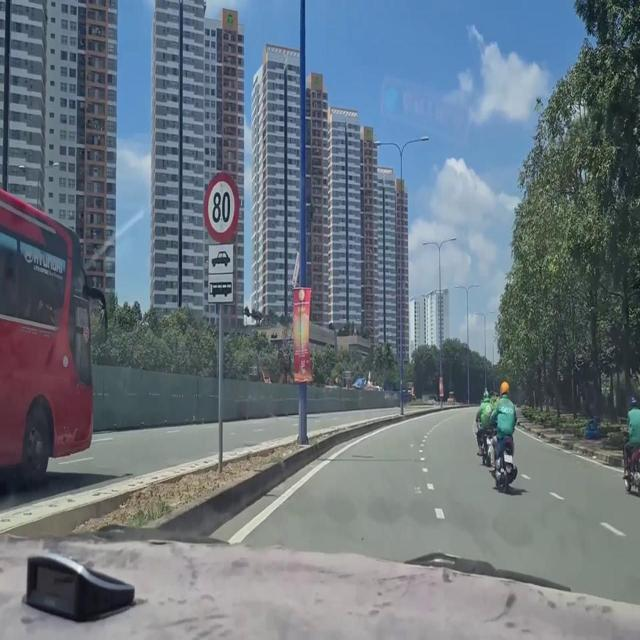Biển phụ: (203, 248, 235, 304)
Giới hạn tốc độ: 80Km/h: (200, 168, 241, 245)
